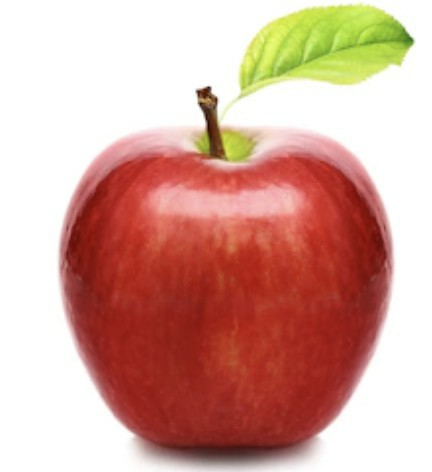fresh_apple: (58, 123, 388, 448)
